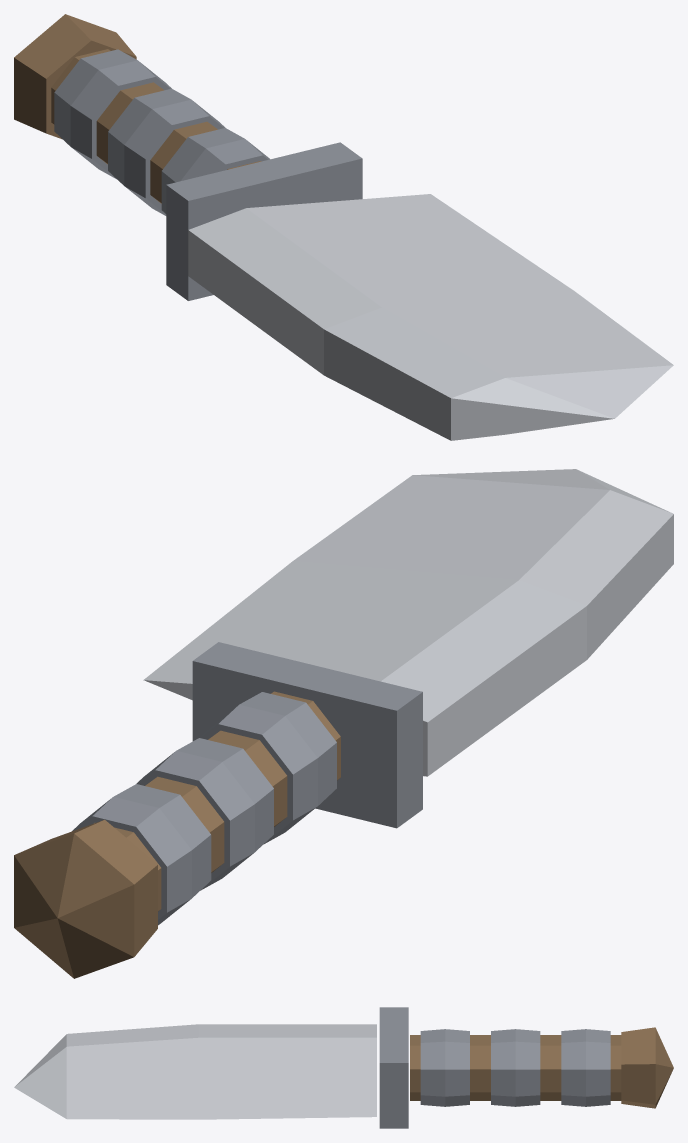
Rendered from guttingknife.glb.
3 renders of one model, top to bottom at view 1: azimuth 30°, elevation 25°; view 2: azimuth 150°, elevation 25°; view 3: azimuth 270°, elevation 25°, orthographic. The views are drawn at different scales.
Visible parts, largest first — view 1: guttingknife; view 2: guttingknife; view 3: guttingknife.
Part boxes in pixels (x1,y1,x2,y2): guttingknife: [14, 14, 673, 440]; guttingknife: [14, 469, 673, 978]; guttingknife: [14, 1007, 673, 1128].
Bounding box in the file's own units: 0.144 × 0.068 × 0.5.
